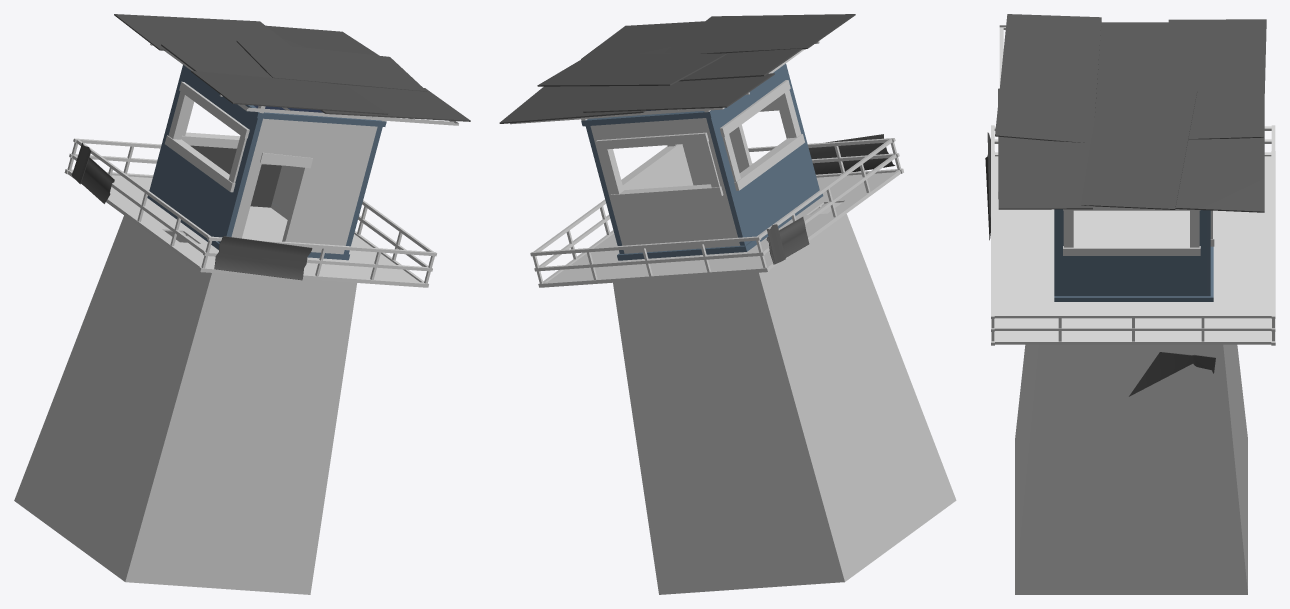
Rendered from SM_M_Building_Military_Tower_03_ATLAS.fbx.
3 renders of one model, left to right at view 1: azimuth 30°, elevation 25°; view 2: azimuth 150°, elevation 25°; view 3: azimuth 270°, elevation 25°, orthographic. The views are drawn at different scales.
Visible parts, largest first — view 1: StaticMeshComponent1_ConvexHulls, SM_M_Building_Military_Tower_03_ATLAS_LOD0; view 2: StaticMeshComponent1_ConvexHulls, SM_M_Building_Military_Tower_03_ATLAS_LOD0; view 3: SM_M_Building_Military_Tower_03_ATLAS_LOD0, StaticMeshComponent1_ConvexHulls.
Boxes of the visible parts, bbox=[...] form: StaticMeshComponent1_ConvexHulls: bbox=[14, 215, 356, 594]; SM_M_Building_Military_Tower_03_ATLAS_LOD0: bbox=[64, 14, 470, 287]; StaticMeshComponent1_ConvexHulls: bbox=[613, 202, 956, 594]; SM_M_Building_Military_Tower_03_ATLAS_LOD0: bbox=[499, 14, 903, 287]; SM_M_Building_Military_Tower_03_ATLAS_LOD0: bbox=[985, 14, 1275, 396]; StaticMeshComponent1_ConvexHulls: bbox=[1015, 344, 1247, 594].
Size of the model in its own units: 935 by 656 by 1347.
